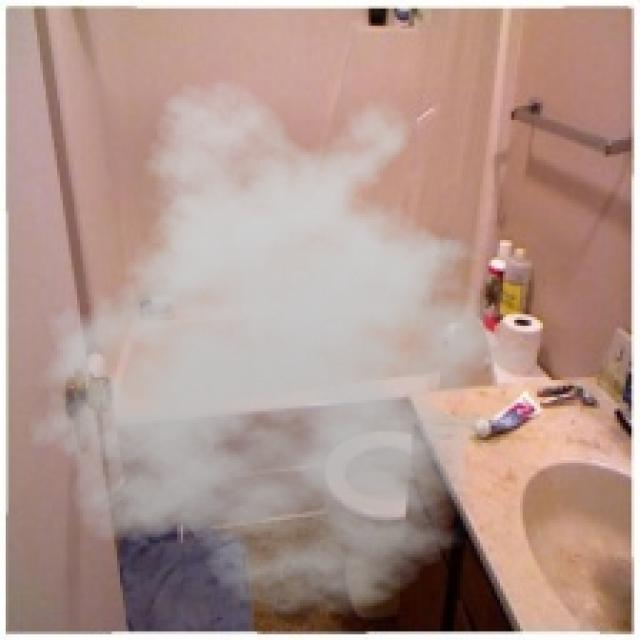smoke: (14, 77, 557, 617)
